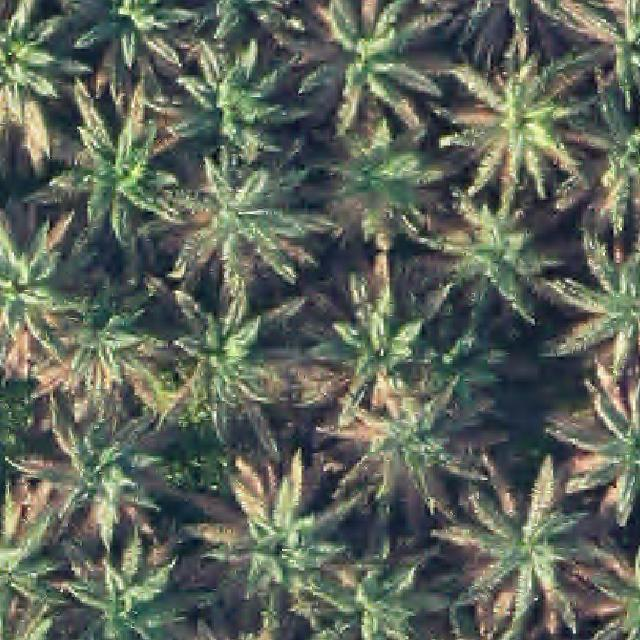oilpalm: (441, 459, 593, 634), (150, 149, 323, 300), (432, 43, 589, 190), (144, 20, 301, 159), (198, 458, 340, 611), (149, 286, 294, 434), (420, 184, 554, 325), (46, 97, 161, 254), (297, 0, 441, 124), (42, 278, 155, 413), (345, 385, 462, 509), (29, 419, 145, 544), (313, 275, 424, 402), (50, 539, 160, 640)
